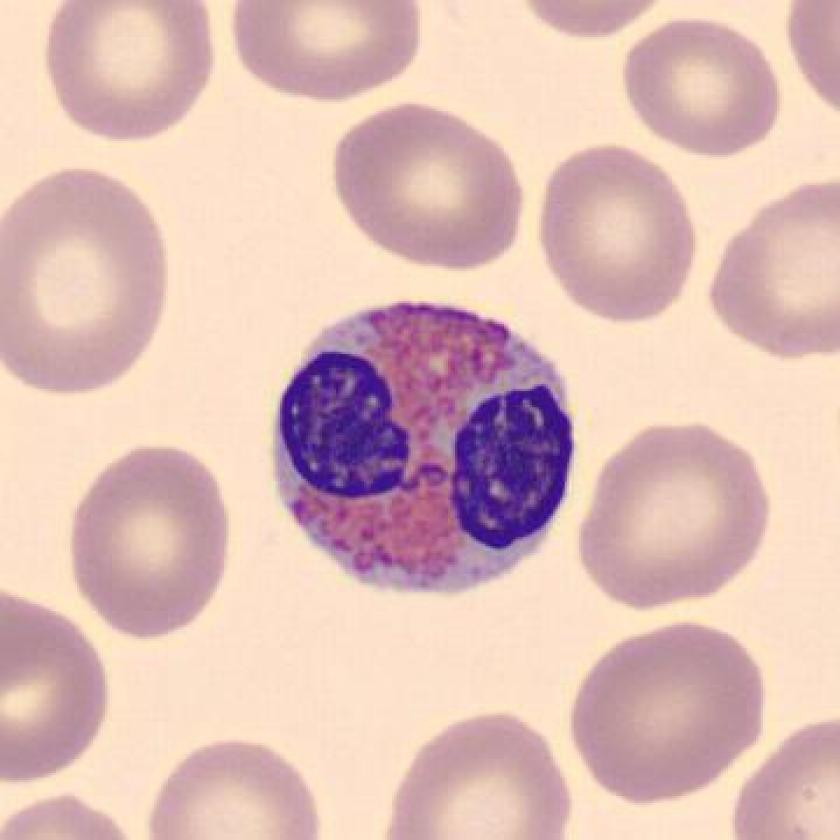eosinophil: (249, 293, 599, 614)
